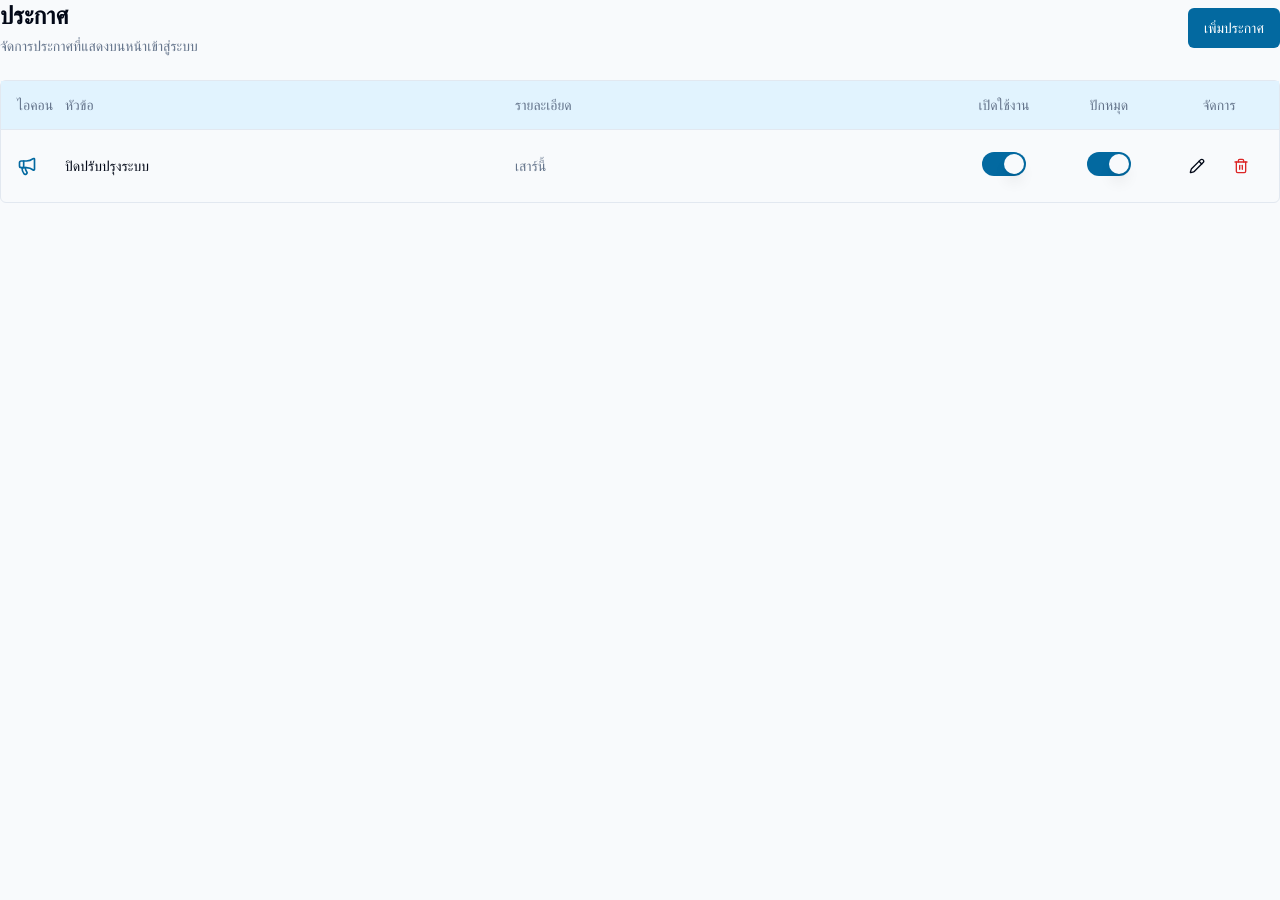
Test case: AnnouncementsPage › opens the create dialog from the add button
The image size is (1280, 900).
What coordinates should you click on to do the following:
click the button "เพิ่มประกาศ"
I would click on:
 (1234, 28)
Its box is [1188,8,1279,48].
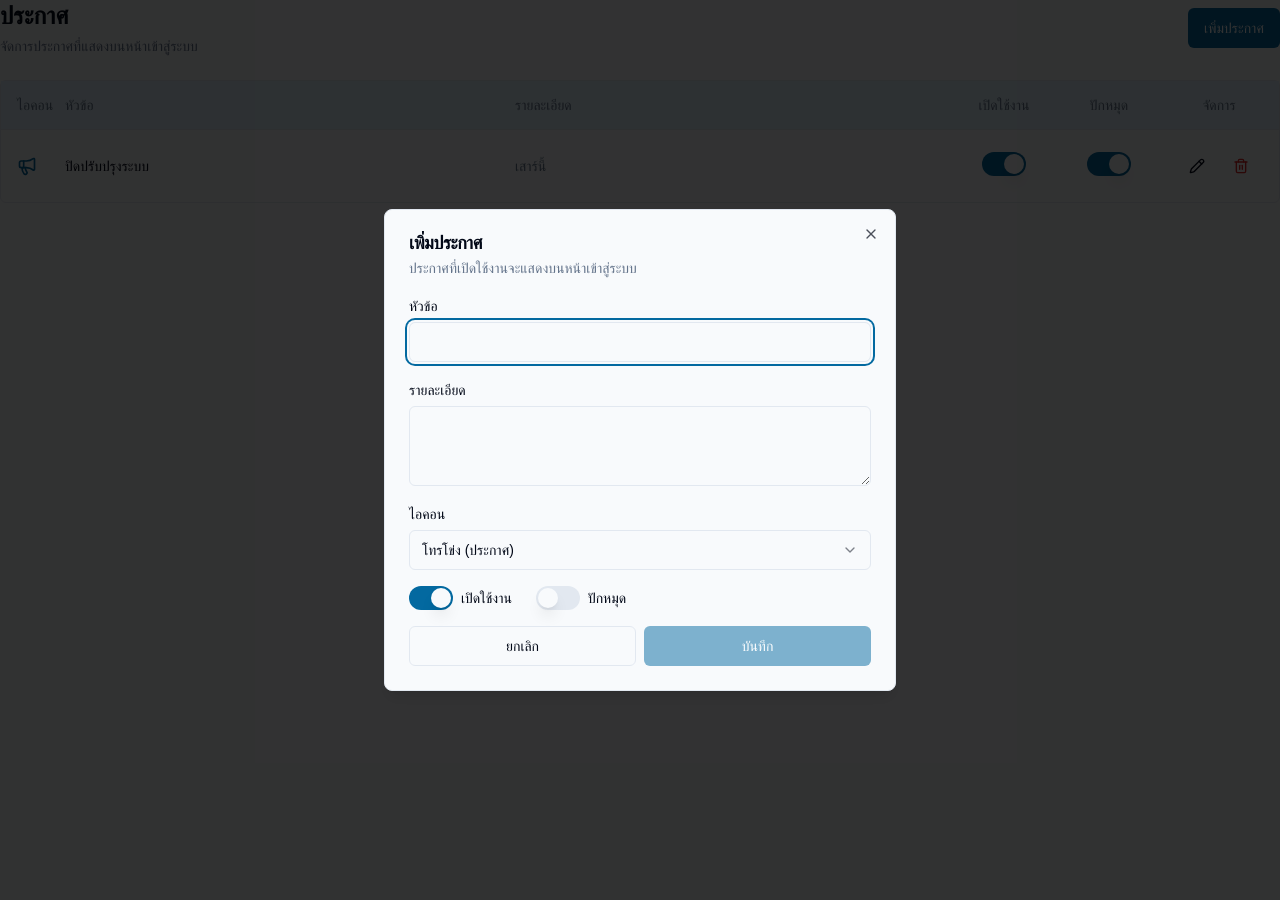
Now the dialog is shown, box [384,209,896,691]
